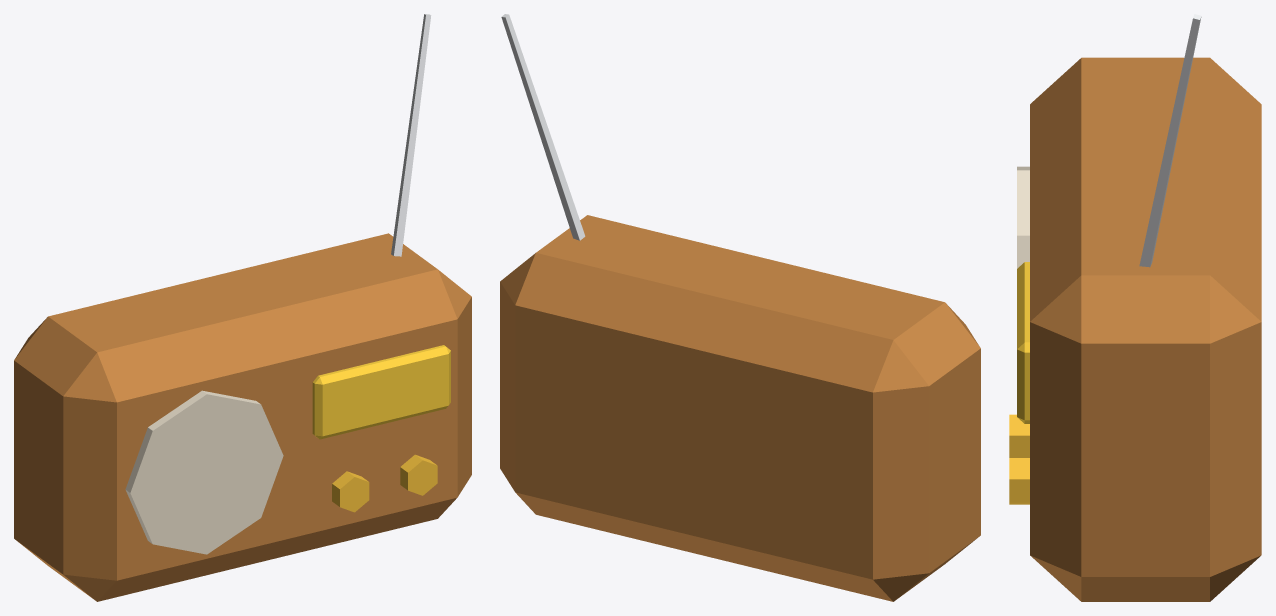
Rendered from Radio.fbx.
3 views of the same model, side by side, from view 1: azimuth 30°, elevation 25°; view 2: azimuth 150°, elevation 25°; view 3: azimuth 270°, elevation 25° (orthographic). The views are drawn at different scales.
Visible parts, largest first — view 1: Radio; view 2: Radio; view 3: Radio.
Boxes of the visible parts, bbox=[...] form: Radio: bbox=[14, 14, 471, 601]; Radio: bbox=[500, 14, 980, 601]; Radio: bbox=[1009, 14, 1261, 601].
Bounding box in the file's own units: 2.42 × 2.61 × 0.98.
1 material, 1 textured.
